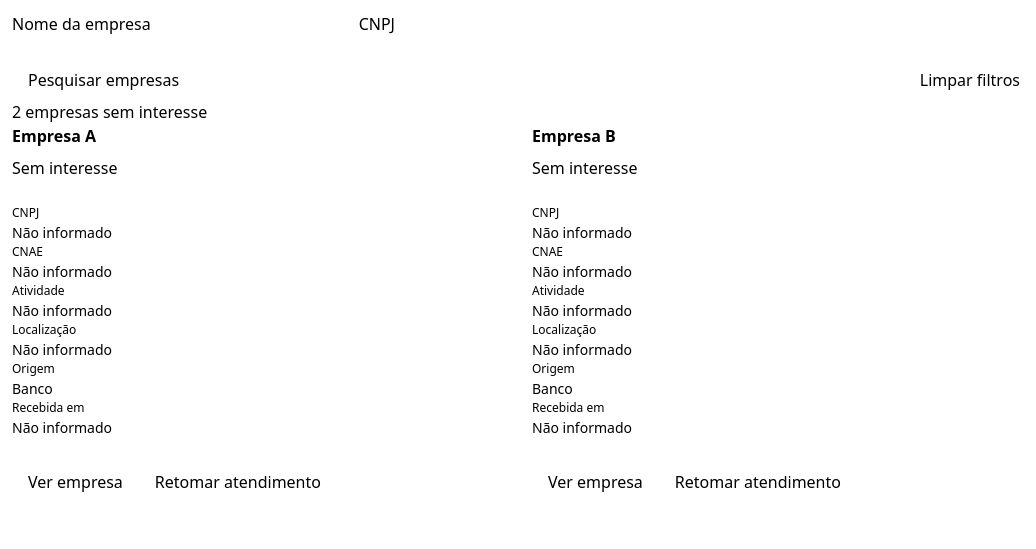
retomada conclusivamente recusada libera nova intenção
The width and height of the screenshot is (1036, 549).
Click the button "Retomar atendimento" below "Empresa A". click: click(238, 482)
box: [139,462,337,502]
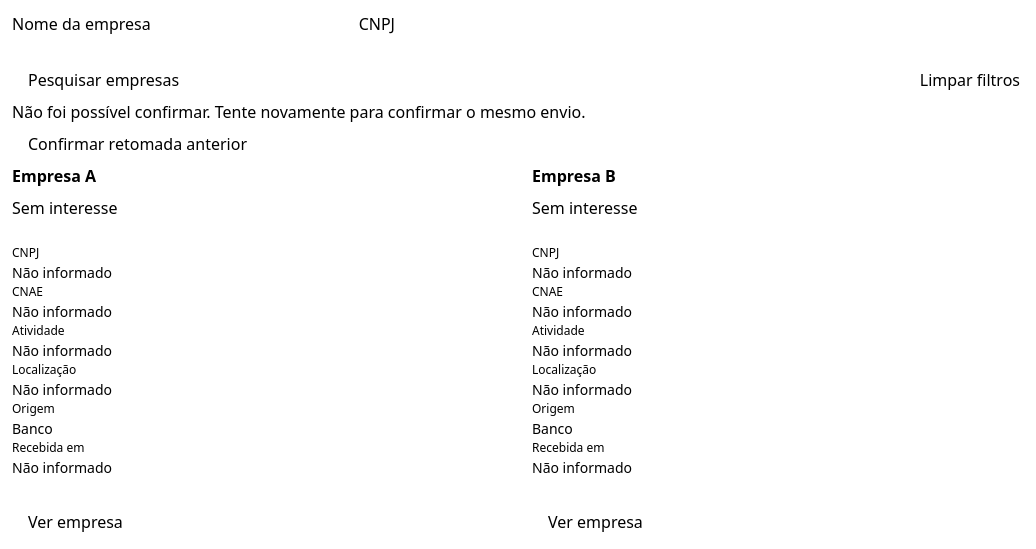
Click the button "Confirmar retomada anterior". click: click(138, 144)
box: [12,124,263,164]
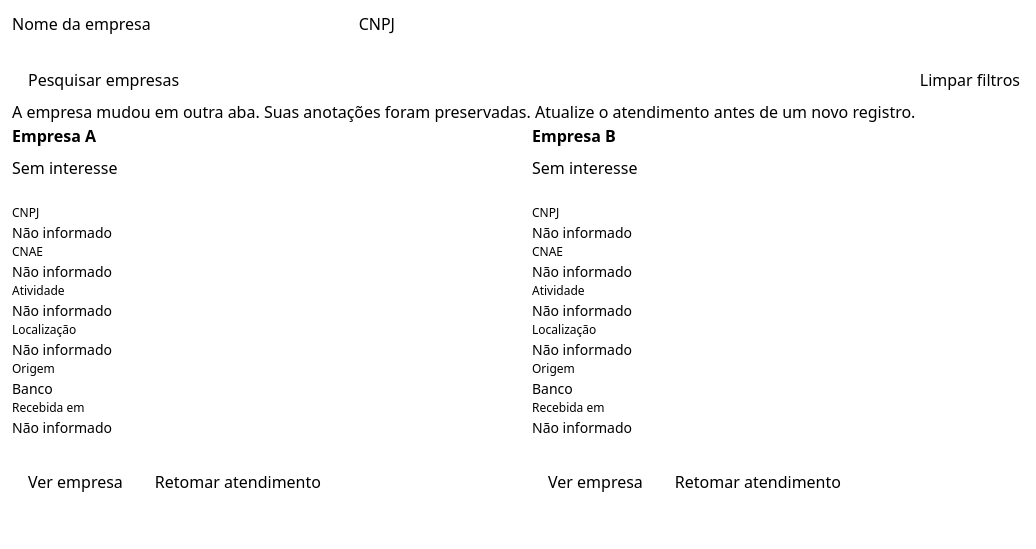
Expected: the text "Confirmar retomada anterior" is gone
Expected: the text "Retomar atendimento" is shown, [139,462,337,502]
